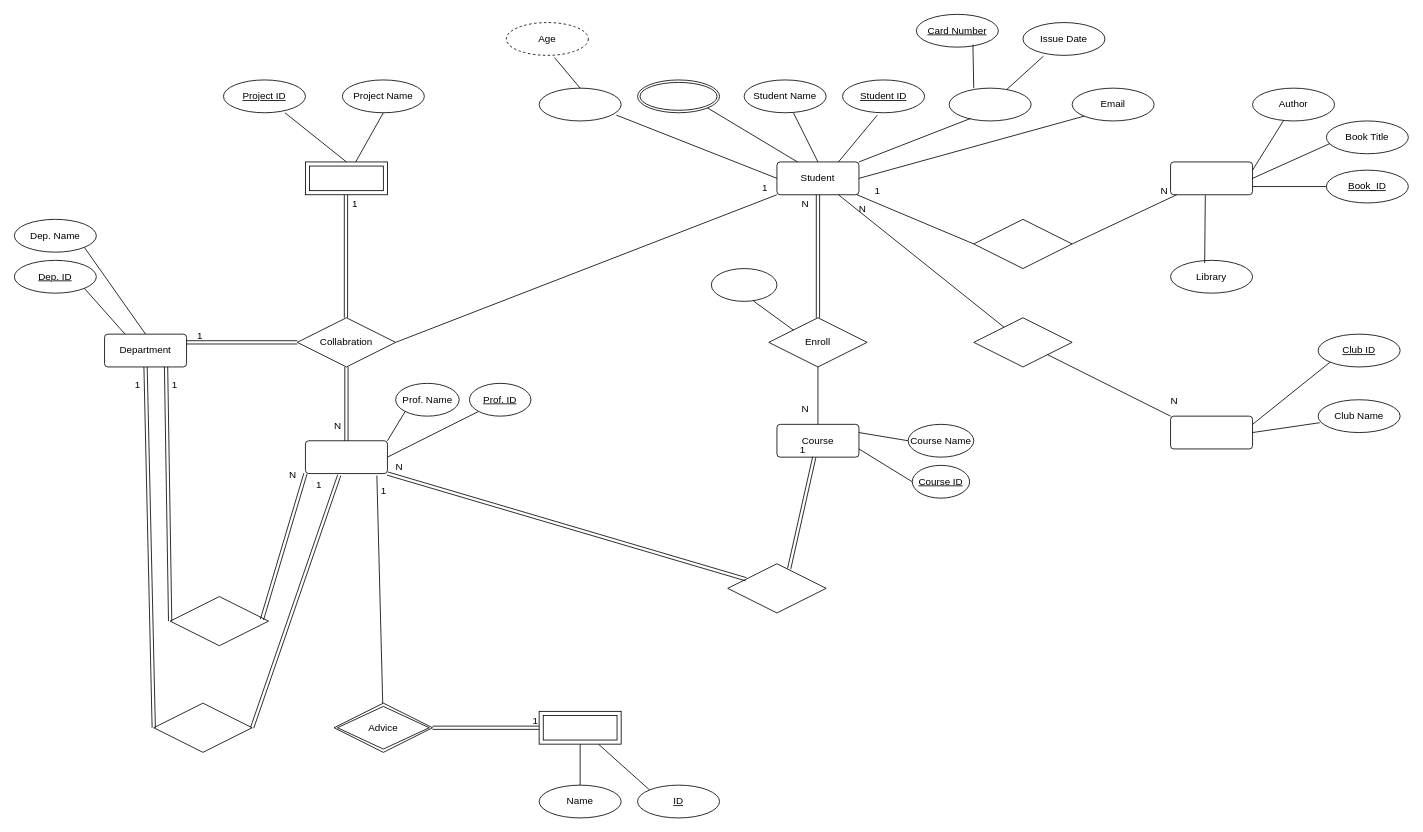
Image size: 1423x832. Some labels were removed from this diagram. Each missing label, with the centre of its shape:
Academic Advisor: the point at 579,727
Assigned: the point at 219,621
Book: the point at 1211,178
Borrow: the point at 1022,244
Club: the point at 1211,432
Date of Birth: the point at 579,104
Grades: the point at 744,284
Join: the point at 1022,342
Phone number: the point at 678,96
Proffesor: the point at 346,457
Project: the point at 346,178
responsible: the point at 776,588
Supervise: the point at 202,727
University ID: the point at 989,104
